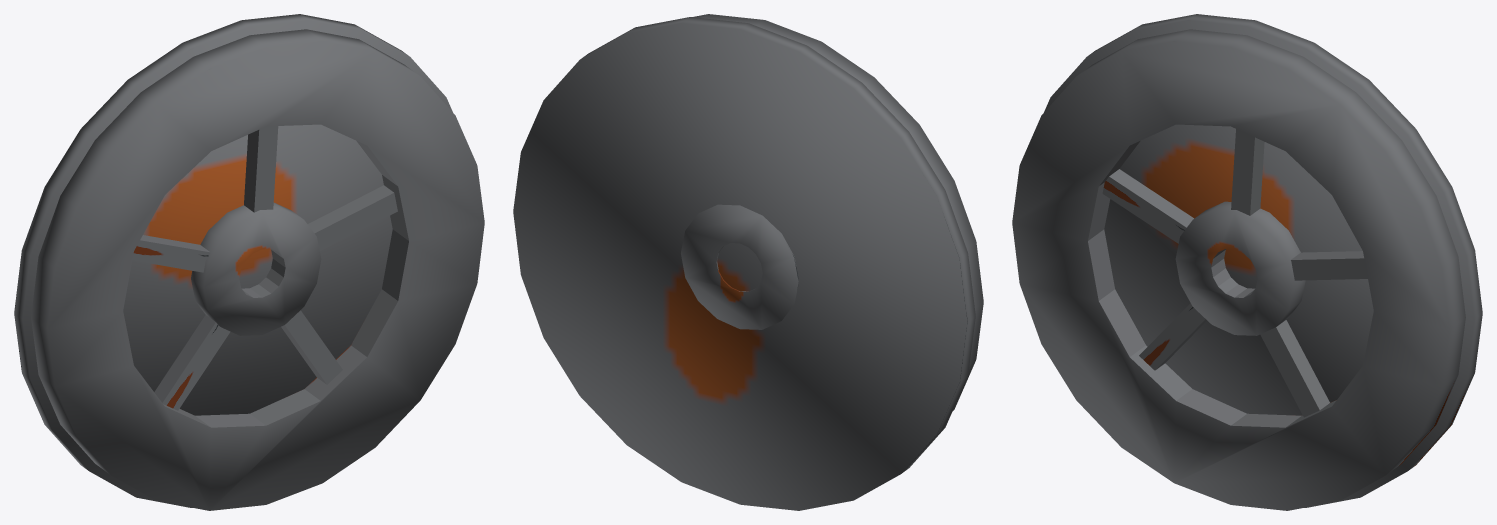
The model's file is worn_rim.glb.
3 renders of one model, left to right at view 1: azimuth 30°, elevation 25°; view 2: azimuth 150°, elevation 25°; view 3: azimuth 330°, elevation 25°, orthographic.
Visible parts, largest first — view 1: RimDisc, OuterLip, Hub, Spoke.003, Spoke, Spoke.001, Spoke.002, Spoke.004; view 2: OuterLip, Hub, RimDisc; view 3: RimDisc, OuterLip, Hub, Spoke.004, Spoke.002, Spoke.001, Spoke, Spoke.003.
Boxes of the visible parts, left/top/right/bottom form: RimDisc: left=31, top=29, right=484, bottom=510; OuterLip: left=14, top=14, right=452, bottom=507; Hub: left=191, top=202, right=321, bottom=335; Spoke.003: left=154, top=315, right=230, bottom=410; Spoke: left=307, top=185, right=397, bottom=250; Spoke.001: left=244, top=126, right=278, bottom=212; Spoke.002: left=132, top=235, right=210, bottom=272; Spoke.004: left=281, top=310, right=342, bottom=384; OuterLip: left=513, top=17, right=975, bottom=510; Hub: left=681, top=204, right=798, bottom=329; RimDisc: left=692, top=14, right=983, bottom=410; RimDisc: left=1012, top=29, right=1465, bottom=510; OuterLip: left=1044, top=14, right=1482, bottom=507; Hub: left=1175, top=201, right=1305, bottom=335; Spoke.004: left=1260, top=320, right=1329, bottom=417; Spoke.002: left=1102, top=169, right=1193, bottom=243; Spoke.001: left=1231, top=129, right=1264, bottom=215; Spoke: left=1291, top=251, right=1367, bottom=280; Spoke.003: left=1139, top=303, right=1206, bottom=370.
Bounding box in the file's own units: 1.08 × 1.08 × 0.105.
Materials: 8 (8 with a texture image).
